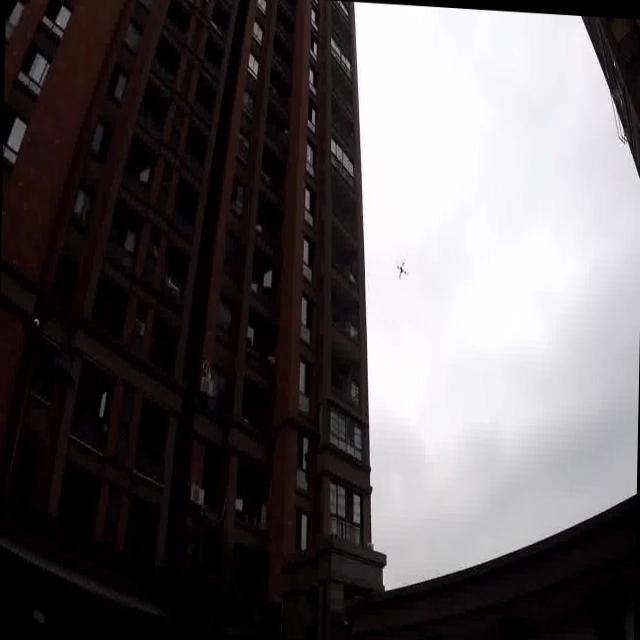drone: (394, 257, 409, 283)
